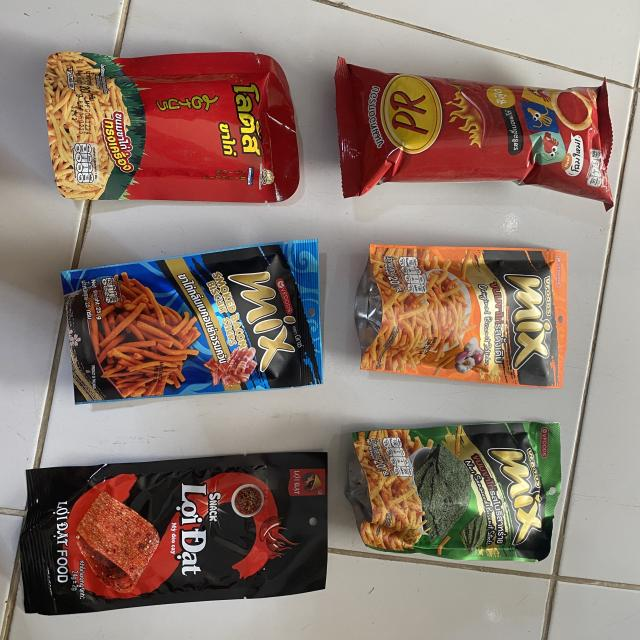plastik: (20, 452, 328, 615), (61, 240, 322, 404), (335, 58, 614, 210), (44, 51, 299, 202), (355, 245, 568, 388), (346, 421, 561, 561)
